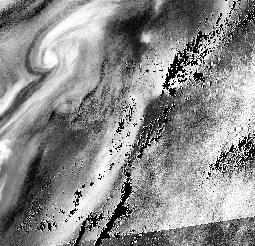CE: (24, 24, 78, 79)
